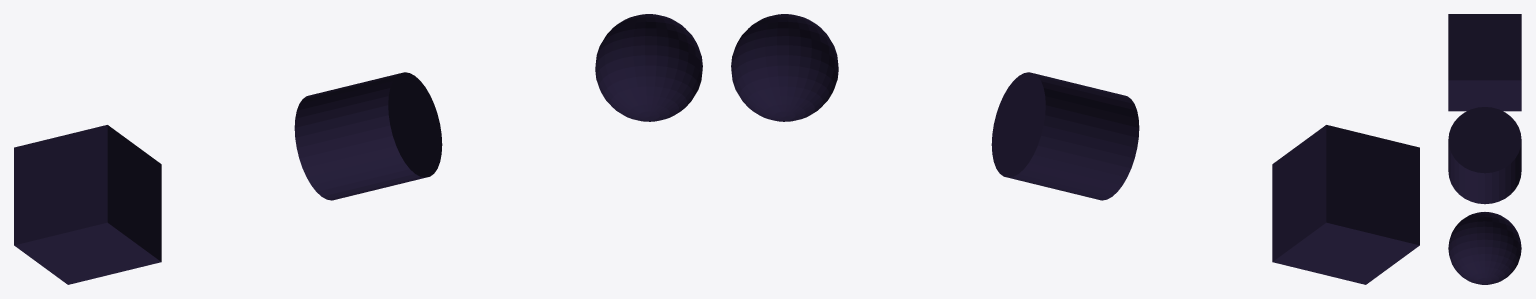
Rendered from Hulls.glb.
The picture shows the model from 3 angles, left to right: view 1: azimuth 30°, elevation 25°; view 2: azimuth 150°, elevation 25°; view 3: azimuth 270°, elevation 25°; orthographic projection. The views are drawn at different scales.
Visible parts, largest first — view 1: HullBox, HullCylinder, HullSphere; view 2: HullBox, HullCylinder, HullSphere; view 3: HullBox, HullCylinder, HullSphere.
Part boxes in pixels (bbox=[...]): HullBox: bbox=[14, 125, 161, 284]; HullCylinder: bbox=[294, 72, 442, 200]; HullSphere: bbox=[595, 14, 702, 121]; HullBox: bbox=[1272, 125, 1419, 284]; HullCylinder: bbox=[991, 72, 1139, 200]; HullSphere: bbox=[731, 14, 838, 121]; HullBox: bbox=[1448, 14, 1521, 111]; HullCylinder: bbox=[1448, 107, 1521, 204]; HullSphere: bbox=[1448, 212, 1521, 284].
Size of the model in its own units: 7 by 1 by 1.
